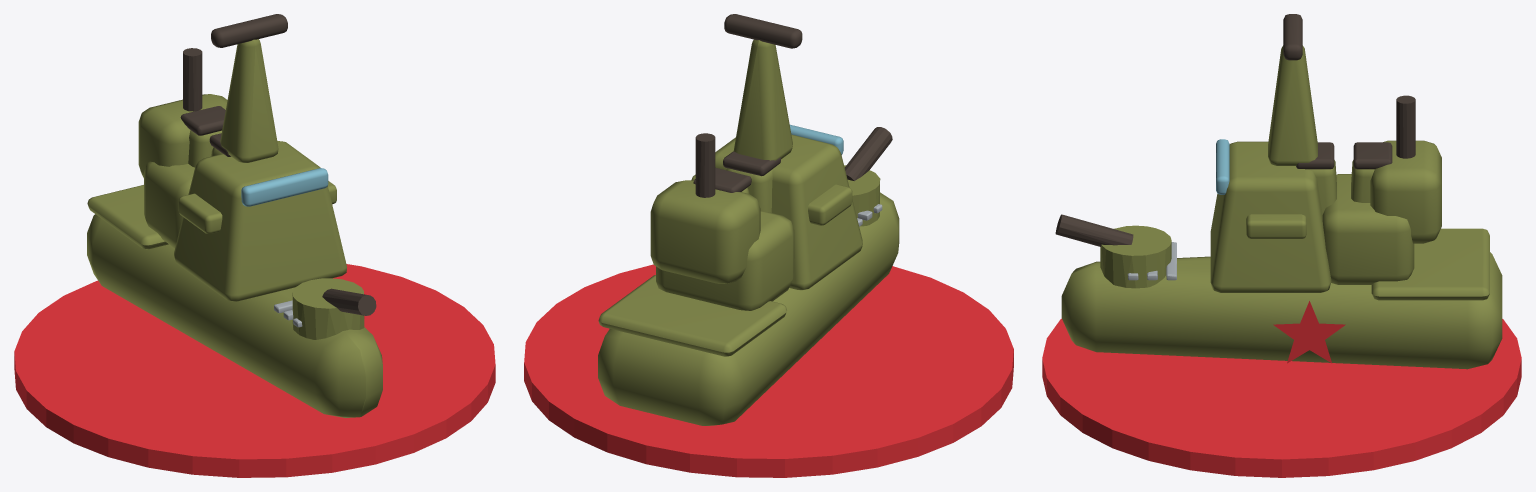
Rendered from soviet_union_navy_lod0.glb.
3 renders of one model, left to right at view 1: azimuth 30°, elevation 25°; view 2: azimuth 150°, elevation 25°; view 3: azimuth 270°, elevation 25°, orthographic. The views are drawn at different scales.
Visible parts, largest first — view 1: body_hull, base_pedestal; view 2: body_hull, base_pedestal; view 3: body_hull, base_pedestal.
Part boxes in pixels (<box>): body_hull: <box>87,14,382,417</box>; base_pedestal: <box>14,264,495,477</box>; body_hull: <box>598,14,899,425</box>; base_pedestal: <box>524,264,1013,477</box>; body_hull: <box>1055,14,1502,369</box>; base_pedestal: <box>1042,318,1521,477</box>.
Bounding box in the file's own units: 0.78 × 0.6238 × 0.78.
